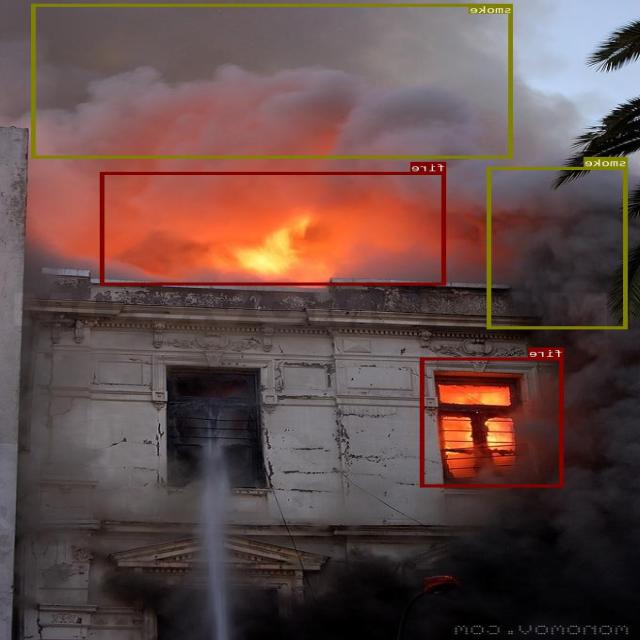fire: (101, 172, 447, 284), (421, 357, 564, 487)
smoke: (32, 3, 514, 158), (488, 166, 628, 328)
